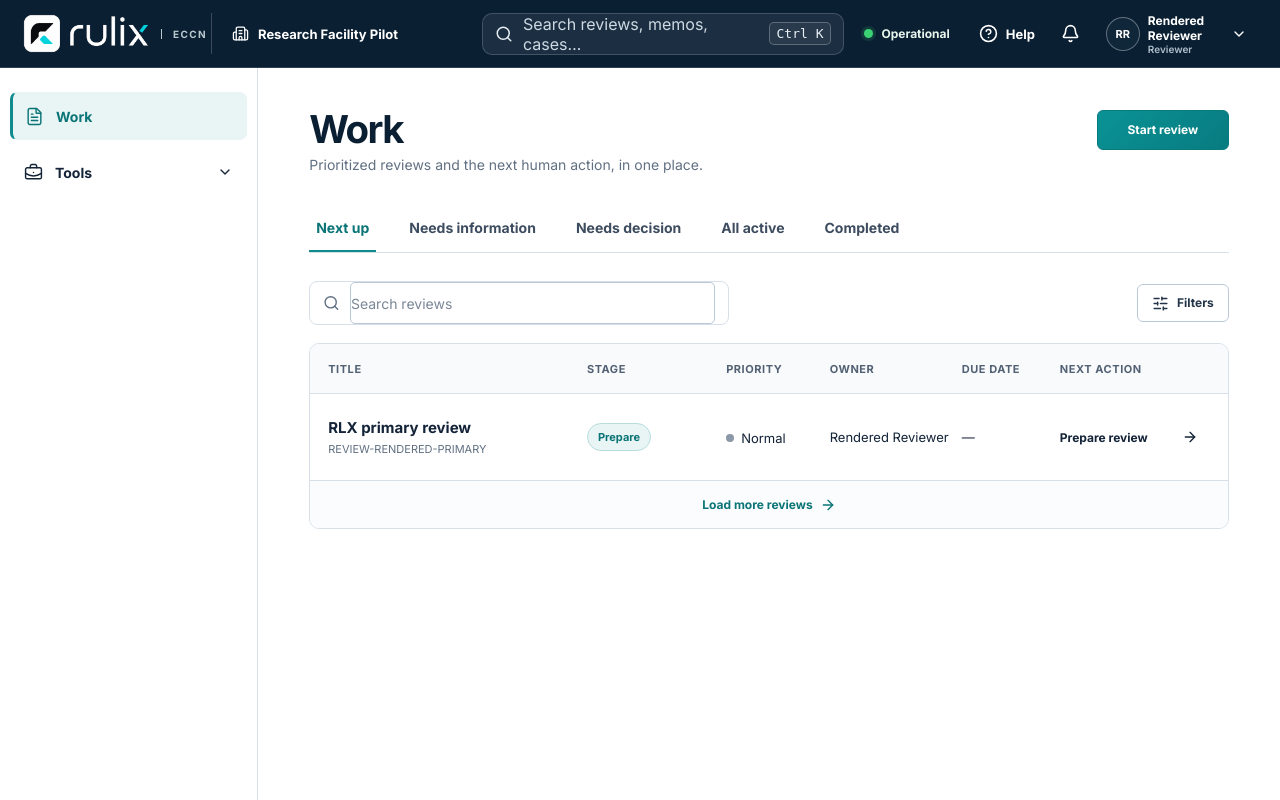
Test: rendered paged command workspace › loads summary pages on demand and fetches detail only for the selected review
Expected: the heading "Work" is shown, left=309, top=106, right=403, bottom=152
Expected: the text "RLX primary review" is shown, left=328, top=418, right=486, bottom=437
Click the button "Load more reviews": [769, 504] box left=310, top=480, right=1228, bottom=528
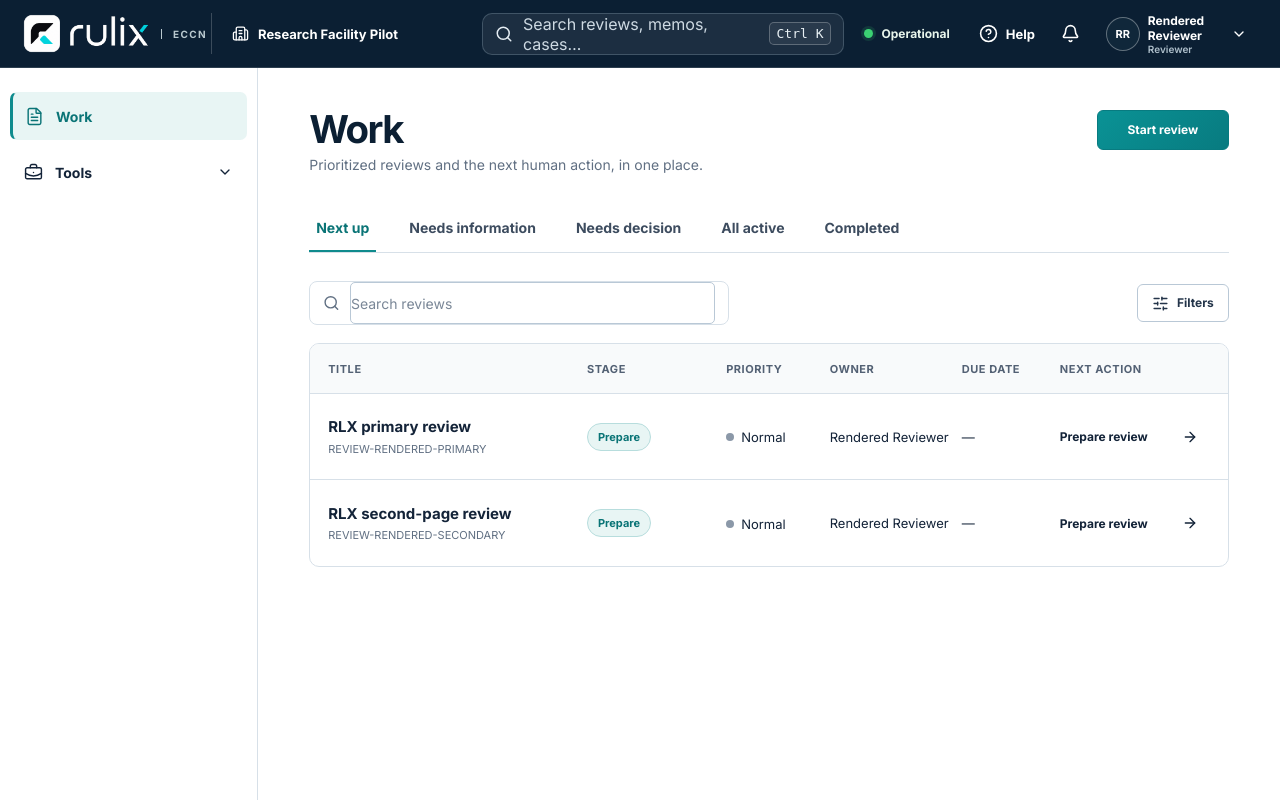
Now the text "RLX second-page review" is shown, box left=328, top=504, right=512, bottom=523
Now the button "Load more reviews" is gone
Click the button "RLX primary review": [407, 437] box left=328, top=410, right=486, bottom=464
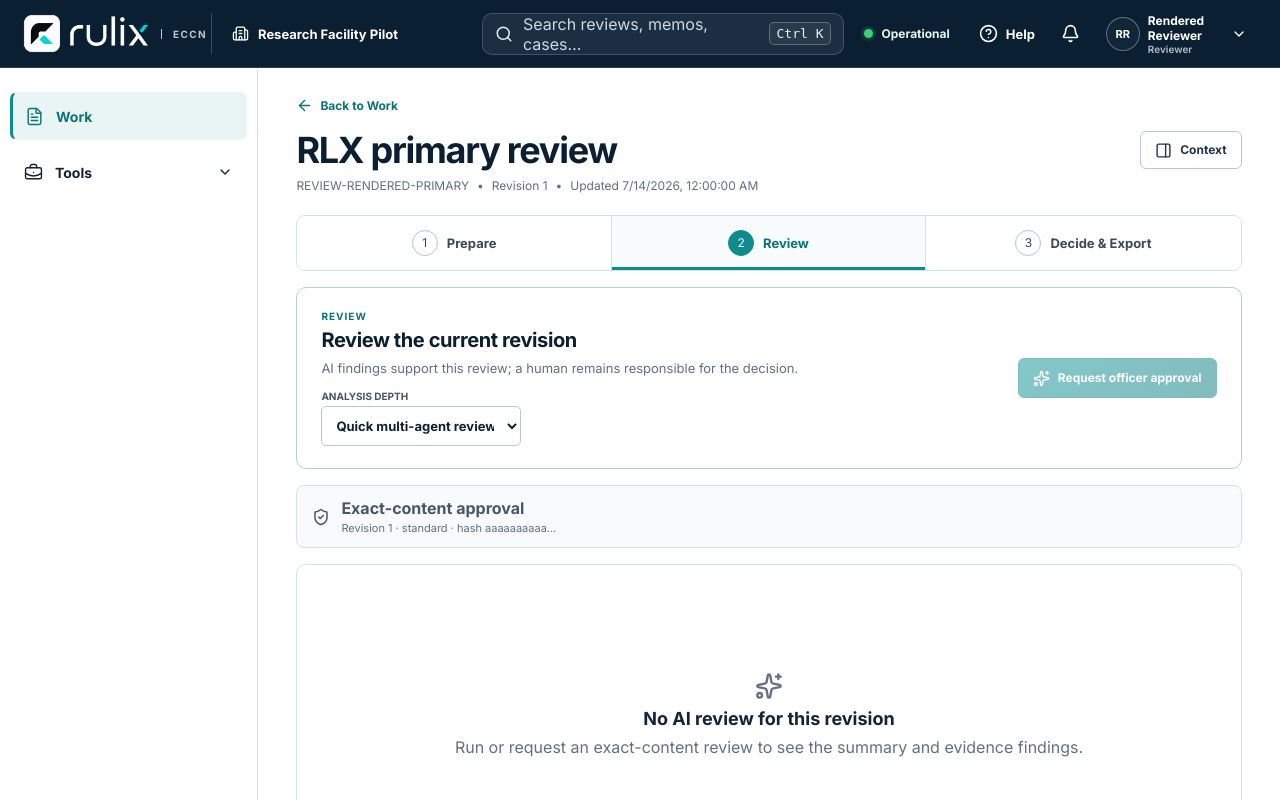
Now the heading "RLX primary review" is shown, box left=296, top=128, right=617, bottom=172
